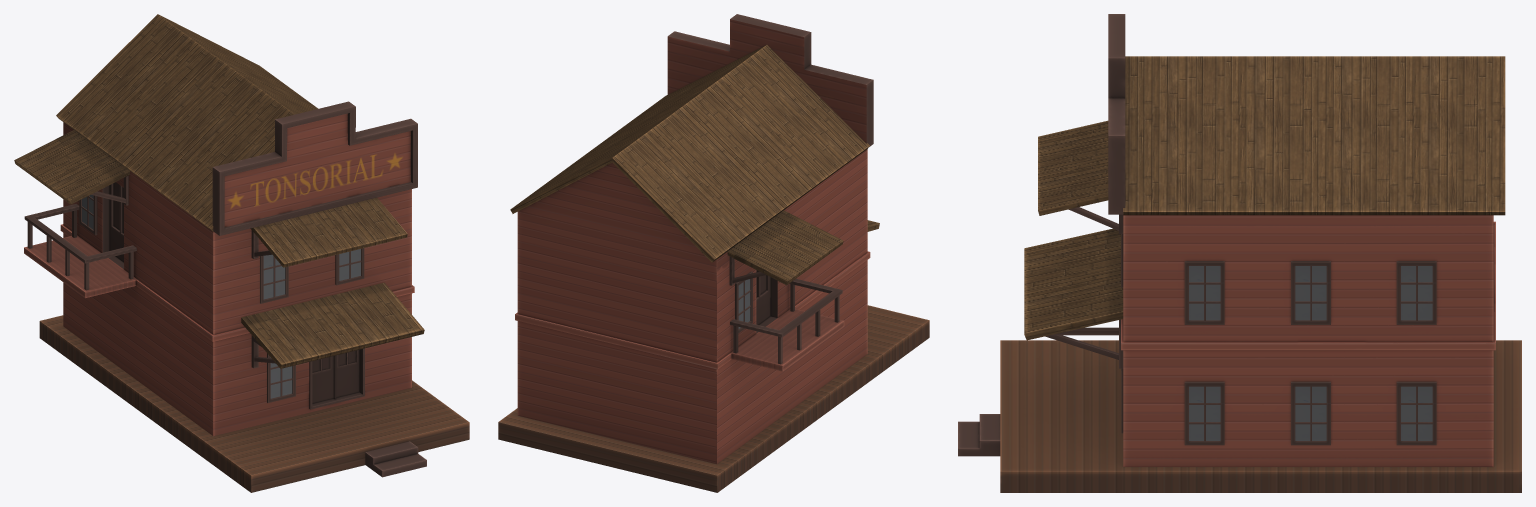
Rendered from Tonsorial.fbx.
The picture shows the model from 3 angles, left to right: view 1: azimuth 30°, elevation 25°; view 2: azimuth 150°, elevation 25°; view 3: azimuth 270°, elevation 25°; orthographic projection. The views are drawn at different scales.
Visible parts, largest first — view 1: Building_12; view 2: Building_12; view 3: Building_12.
Boxes of the visible parts, x1,y1,x2,y2 form: Building_12: (14, 14, 469, 492); Building_12: (498, 14, 929, 492); Building_12: (958, 14, 1521, 492).
Bounding box in the file's own units: 222 × 254 × 331.
